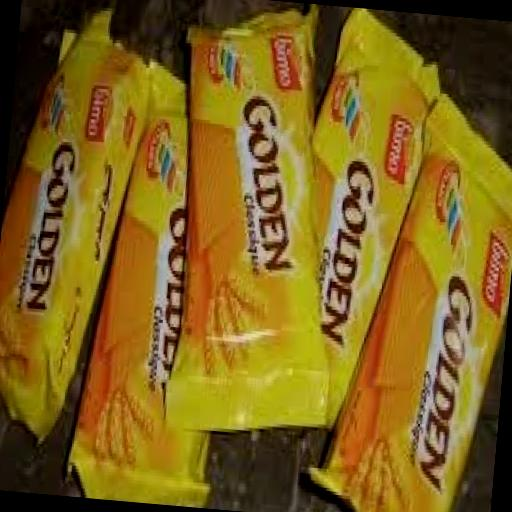golden: (143, 0, 356, 421), (0, 0, 143, 483)
